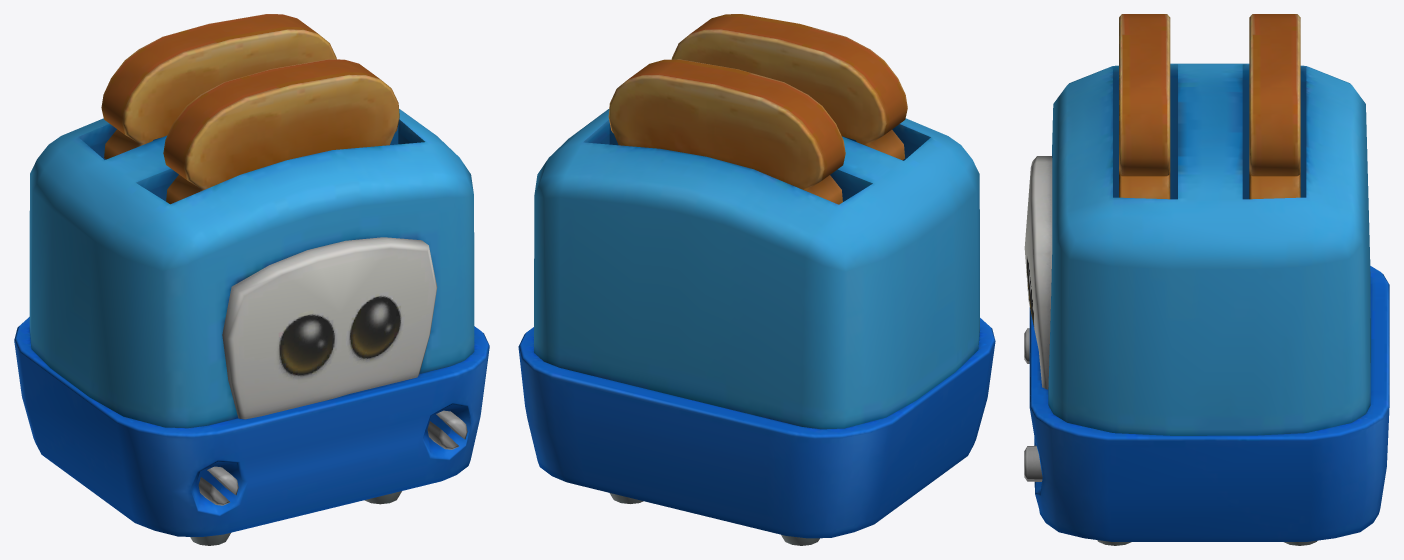
File: 0-toaster_blue.fbx
3 views of the same model, side by side, from view 1: azimuth 30°, elevation 25°; view 2: azimuth 150°, elevation 25°; view 3: azimuth 270°, elevation 25° (orthographic). The views are drawn at different scales.
Parts seen in each view (by area): view 1: 0-toaster_blue; view 2: 0-toaster_blue; view 3: 0-toaster_blue.
Boxes of the visible parts, <box> form: 0-toaster_blue: <box>14,14,489,545</box>; 0-toaster_blue: <box>518,14,995,545</box>; 0-toaster_blue: <box>1024,14,1389,545</box>.
Bounding box in the file's own units: 78.52 × 87.75 × 64.17.
